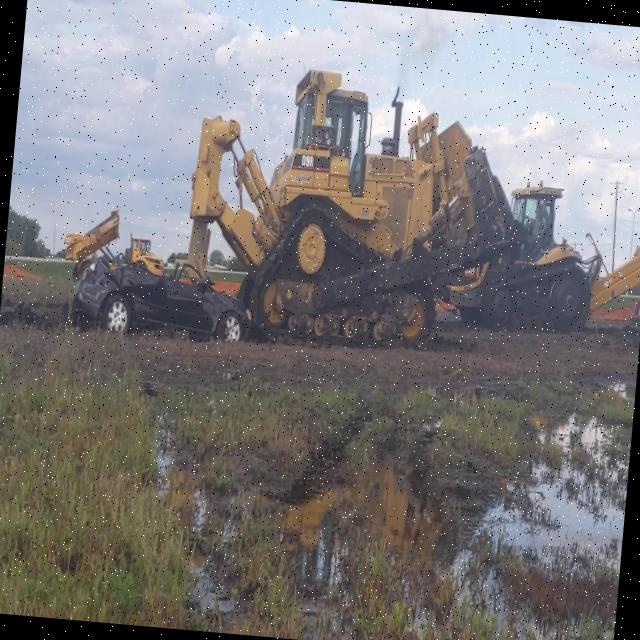Bulldozer: (176, 34, 542, 392)
